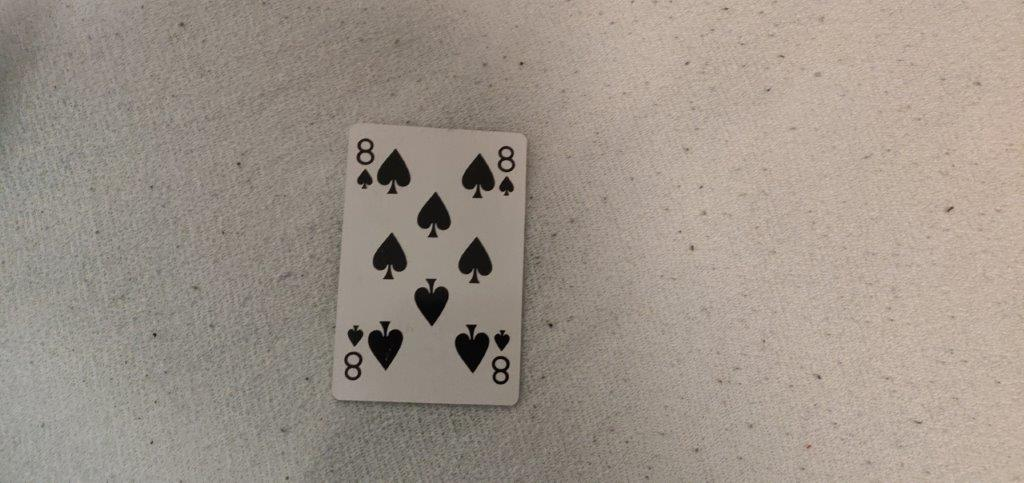8S: (353, 133, 378, 193), (494, 139, 518, 200)
